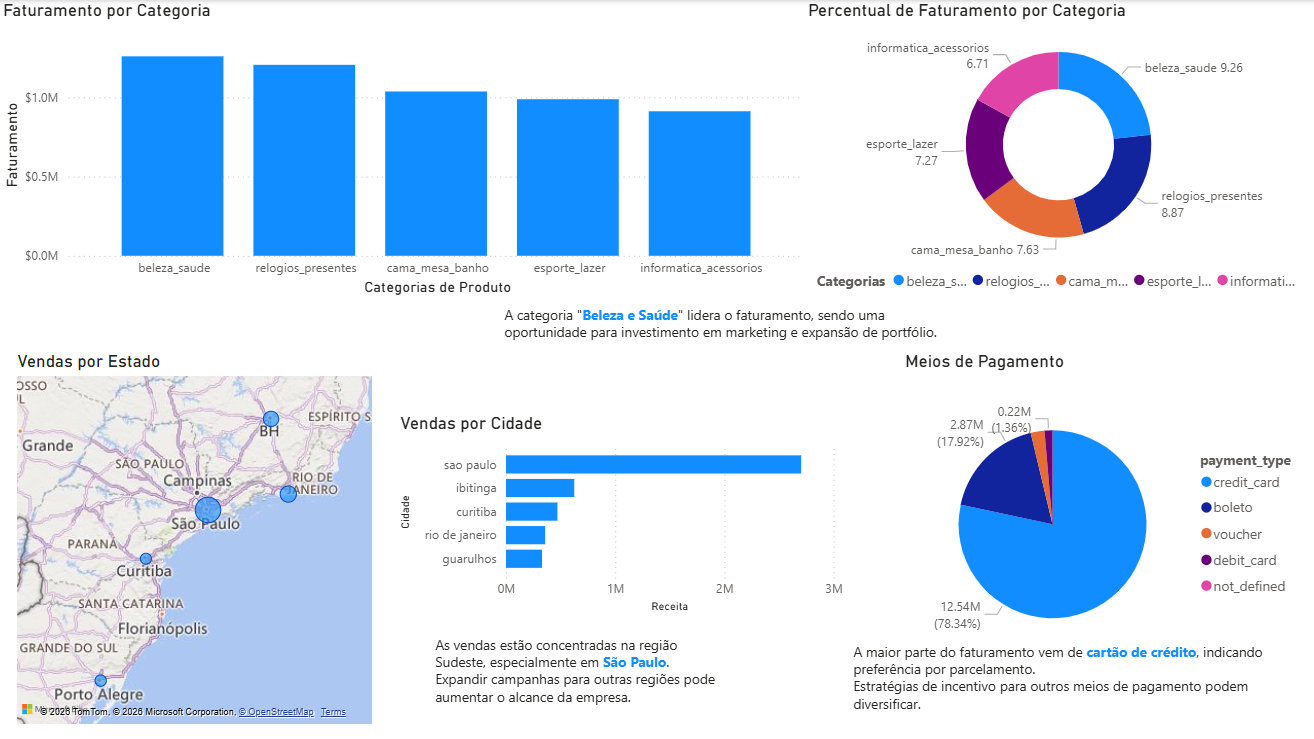

What the dashboard file says about the page in this screenshot:
{"tool":"powerbi","page":{"name":"Page 2","canvas":[1280,720],"ordinal":1},"visuals":[{"type":"clusteredColumnChart","title":"Faturamento por Categoria","fields":{"Category":["SQL_04_top_produtos.product_category_name"],"Y":["Sum(SQL_04_top_produtos.faturamento)"]},"box":[0,0,791.7,291.8],"z":0},{"type":"donutChart","title":"Percentual de Faturamento por Categoria","fields":{"Category":["SQL_04_top_produtos.product_category_name"],"Y":["Sum(SQL_04_top_produtos.percentual_do_total)"]},"box":[783,0,497,291.8],"z":1000},{"type":"map","title":"Vendas por Estado","fields":{"Category":["SQL_06_receita_por_estado.customer_state"],"Size":["Sum(SQL_06_receita_por_estado.receita_total)"]},"box":[13.6,341.4,355,367.7],"z":2000},{"type":"pieChart","title":"Meios de Pagamento","fields":{"Category":["SQL_07_metodos_pagamento.payment_type"],"Y":["Sum(SQL_07_metodos_pagamento.receita_total)"]},"box":[877.3,341.4,402.7,318.1],"z":3000},{"type":"textbox","box":[487.3,291.8,433.8,49.6],"z":4000},{"type":"textbox","box":[420.2,612.8,297.6,85.6],"z":5000},{"type":"textbox","box":[826.7,619.6,410.5,78.8],"z":6000},{"type":"barChart","title":"Vendas por Cidade","fields":{"Category":["SQL_05_top_cidades.seller_city"],"Y":["Sum(SQL_05_top_cidades.receita_total)"]},"box":[386.1,401.7,440.6,198.4],"z":6001}]}

Visuals, with their boxes in screenshot pixels (x1, y1, x2, y2), scaled from the page's 1280x720 canvas onto the 1314x739 screenshot:
"Faturamento por Categoria" clusteredColumnChart: select_region(0, 0, 813, 300)
"Percentual de Faturamento por Categoria" donutChart: select_region(804, 0, 1313, 300)
"Vendas por Estado" map: select_region(14, 350, 378, 728)
"Meios de Pagamento" pieChart: select_region(901, 350, 1313, 677)
textbox: select_region(500, 300, 946, 350)
textbox: select_region(431, 629, 737, 717)
textbox: select_region(849, 636, 1270, 717)
"Vendas por Cidade" barChart: select_region(396, 412, 849, 616)
